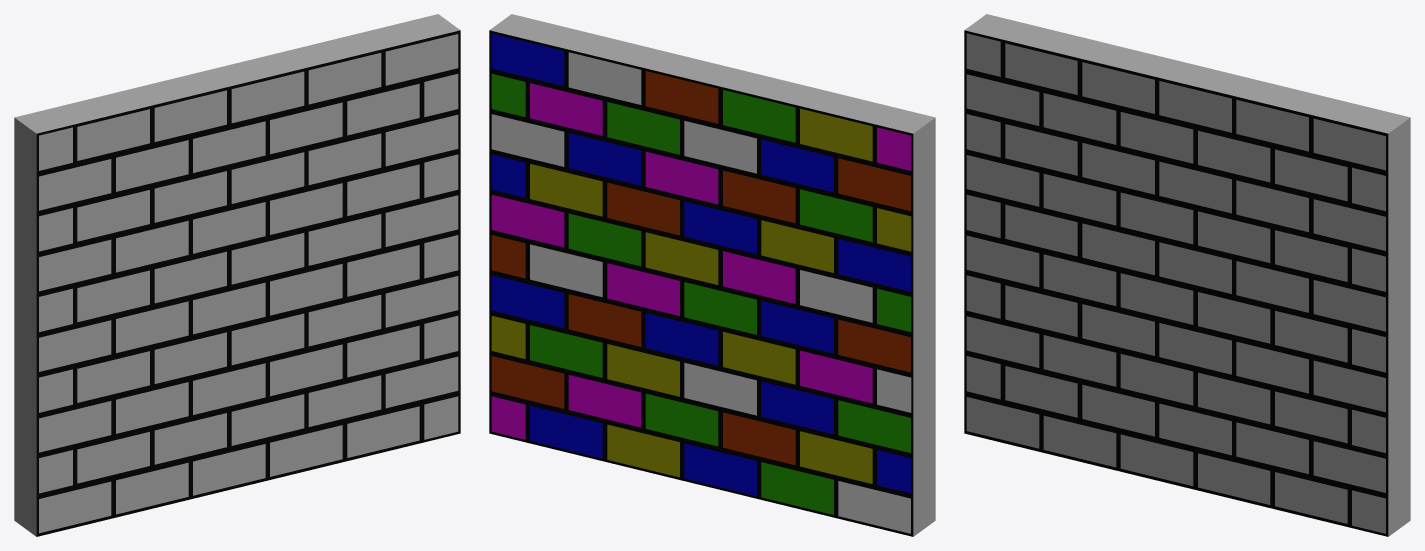
The model's file is Lego wall ultimate.fbx.
3 renders of one model, left to right at view 1: azimuth 30°, elevation 25°; view 2: azimuth 150°, elevation 25°; view 3: azimuth 330°, elevation 25°, orthographic.
Parts seen in each view (by area): view 1: pCube259, pCube124, pCube258, pCube257, pCube256, pCube265, pCube290, pCube303, pCube275, pCube286, pCube260, pCube264 (+48 smaller); view 2: pCube259, pCube124, pCube258, pCube257, pCube256, pCube265, pCube290, pCube303, pCube286, pCube275, pCube260, pCube264 (+48 smaller); view 3: pCube124, pCube257, pCube256, pCube259, pCube258, pCube266, pCube301, pCube310, pCube278, pCube264, pCube261, pCube263 (+48 smaller).
Part boxes in pixels (box(x1,y1,x2,y2)): pCube259: box(53, 89, 152, 164); pCube124: box(361, 14, 460, 89); pCube258: box(130, 70, 229, 145); pCube257: box(284, 33, 383, 107); pCube256: box(207, 51, 306, 126); pCube265: box(14, 155, 113, 214); pCube290: box(14, 316, 113, 375); pCube303: box(14, 478, 113, 536); pCube275: box(14, 236, 113, 294); pCube286: box(14, 397, 113, 456); pCube260: box(14, 108, 75, 173); pCube264: box(113, 136, 190, 195); pCube259: box(797, 89, 896, 164); pCube124: box(489, 14, 588, 89); pCube258: box(720, 70, 819, 145); pCube257: box(566, 33, 665, 107); pCube256: box(643, 51, 742, 126); pCube265: box(836, 155, 935, 214); pCube290: box(836, 316, 935, 375); pCube303: box(836, 478, 935, 536); pCube286: box(836, 397, 935, 456); pCube275: box(836, 236, 935, 294); pCube260: box(874, 108, 935, 173); pCube264: box(759, 136, 836, 195); pCube124: box(1311, 98, 1410, 173); pCube257: box(1234, 80, 1332, 154); pCube256: box(1157, 61, 1255, 136); pCube259: box(1003, 23, 1101, 98); pCube258: box(1080, 42, 1178, 117); pCube266: box(1311, 195, 1410, 254); pCube301: box(1311, 357, 1410, 415); pCube310: box(1311, 437, 1410, 496); pCube278: box(1311, 276, 1410, 335); pCube264: box(1041, 89, 1118, 148); pCube261: box(1272, 146, 1349, 204); pCube263: box(1118, 108, 1195, 167).
Size of the model in its own units: 11 by 10 by 1.
